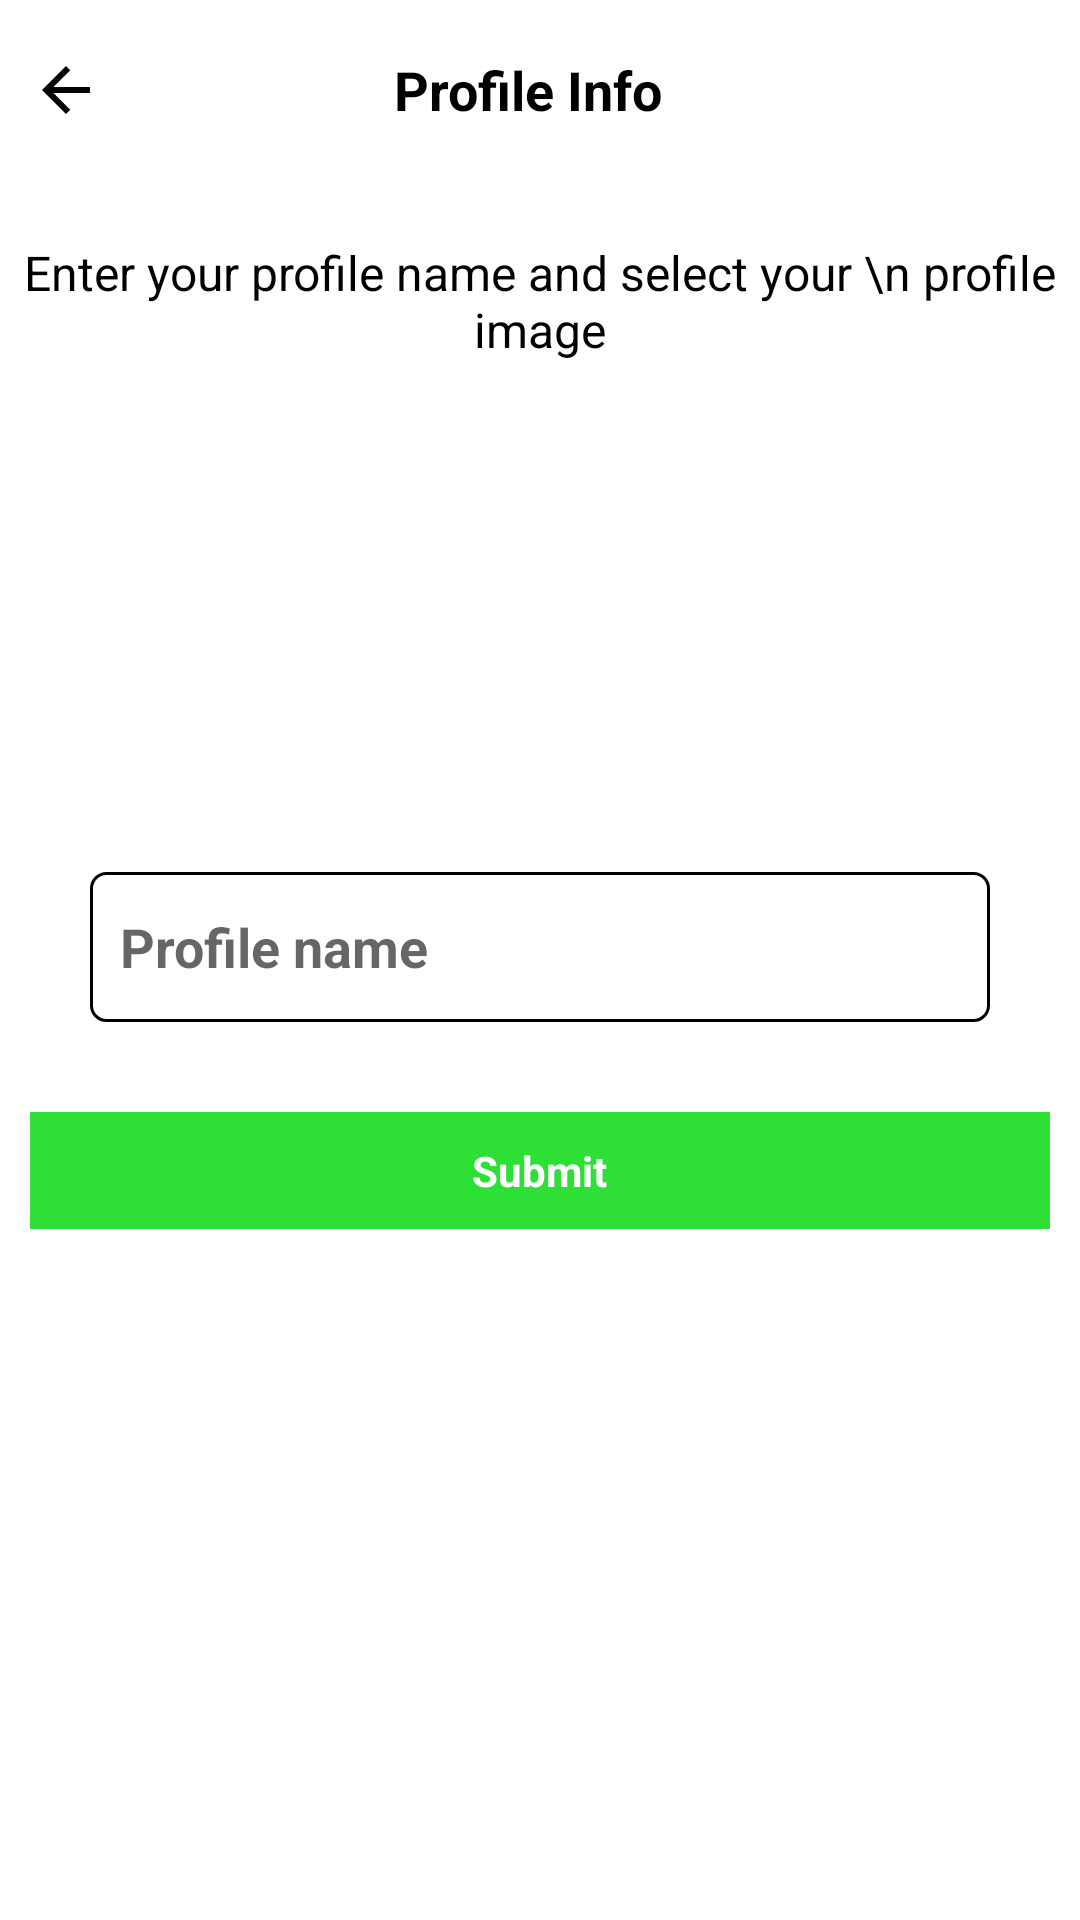

Screen size 1080x1920. Icon name, then its center in pixels as point (x, y):
arrow back: point (66, 90)
